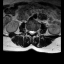CCS_stenosis: (30, 27, 32, 36)
LFS_normal: (35, 28, 37, 35)
LLS_normal: (32, 28, 35, 36)
RFS_normal: (27, 27, 28, 34)
RLS_normal: (28, 27, 30, 35)
